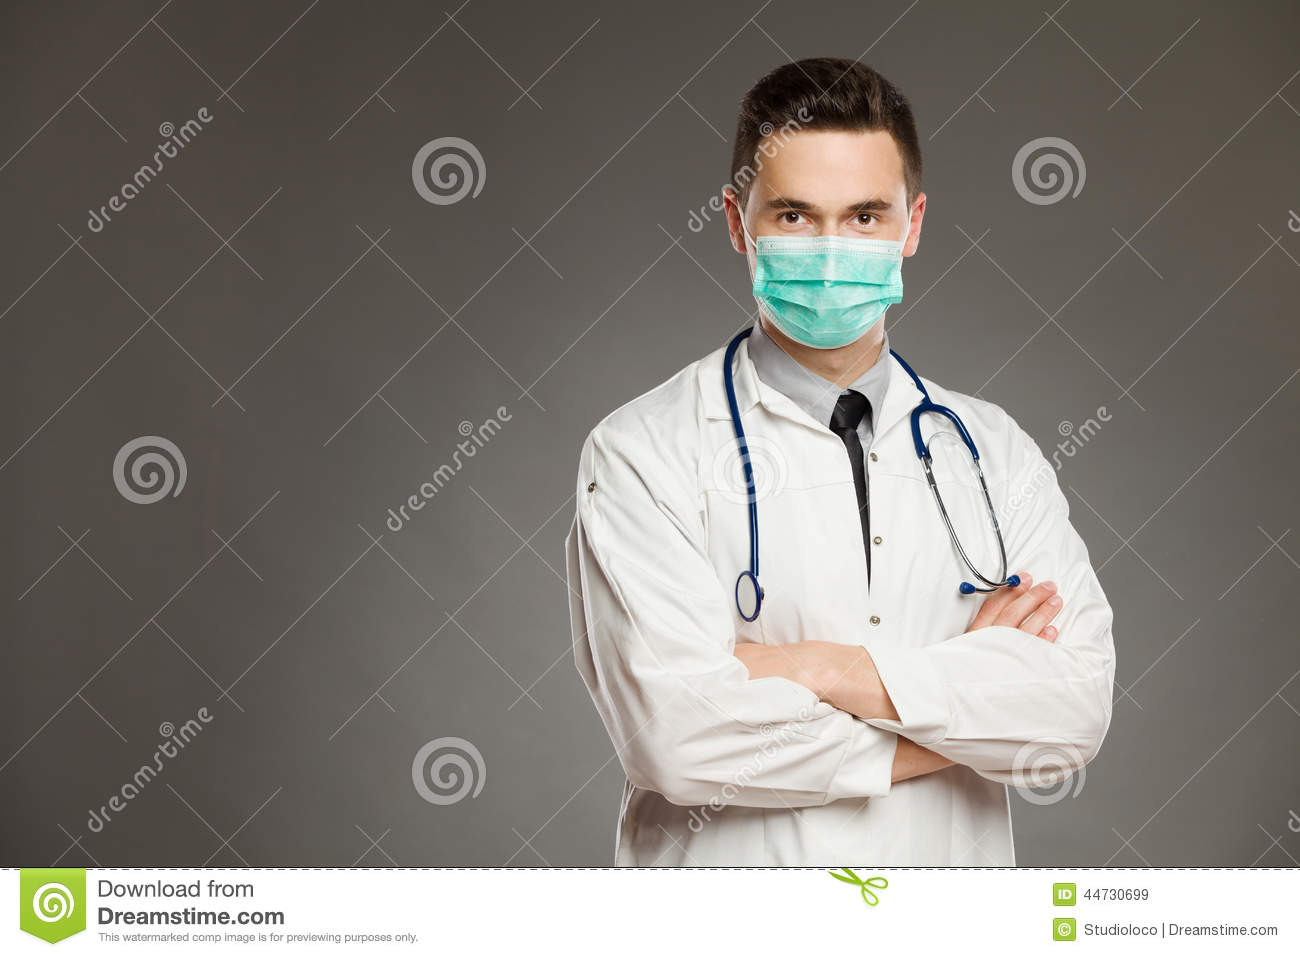mask: (751, 238, 908, 369)
